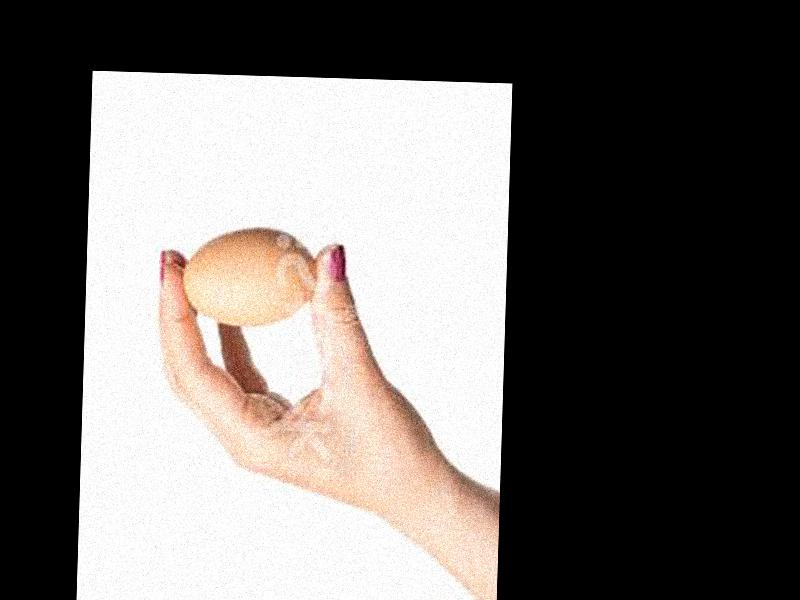Eggs: (182, 229, 318, 326)
